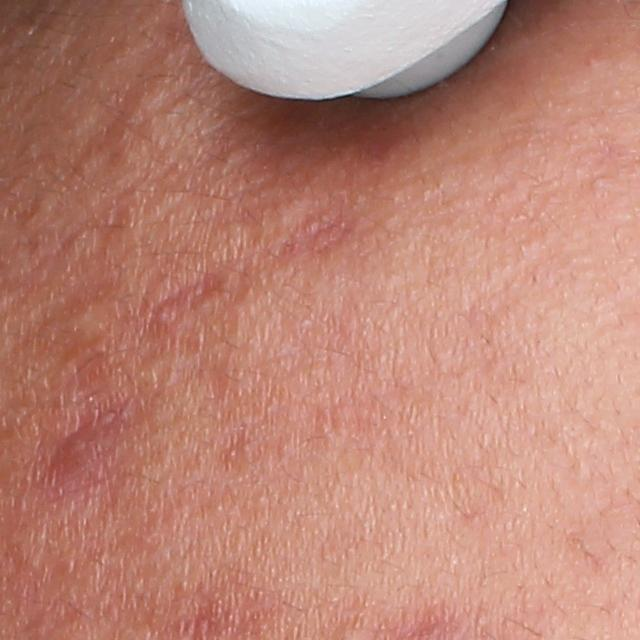atrophic_scar: (267, 200, 382, 280)
comedo: (589, 173, 607, 192)
papule: (51, 424, 102, 479)
